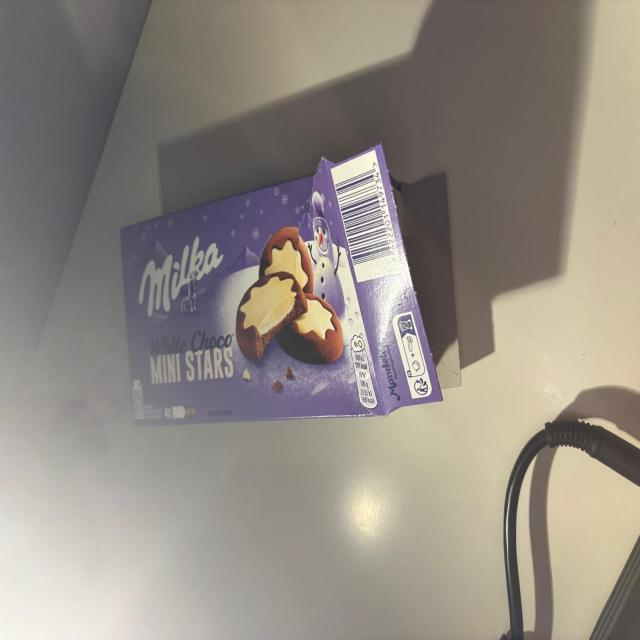damaged_package: (122, 142, 461, 428)
